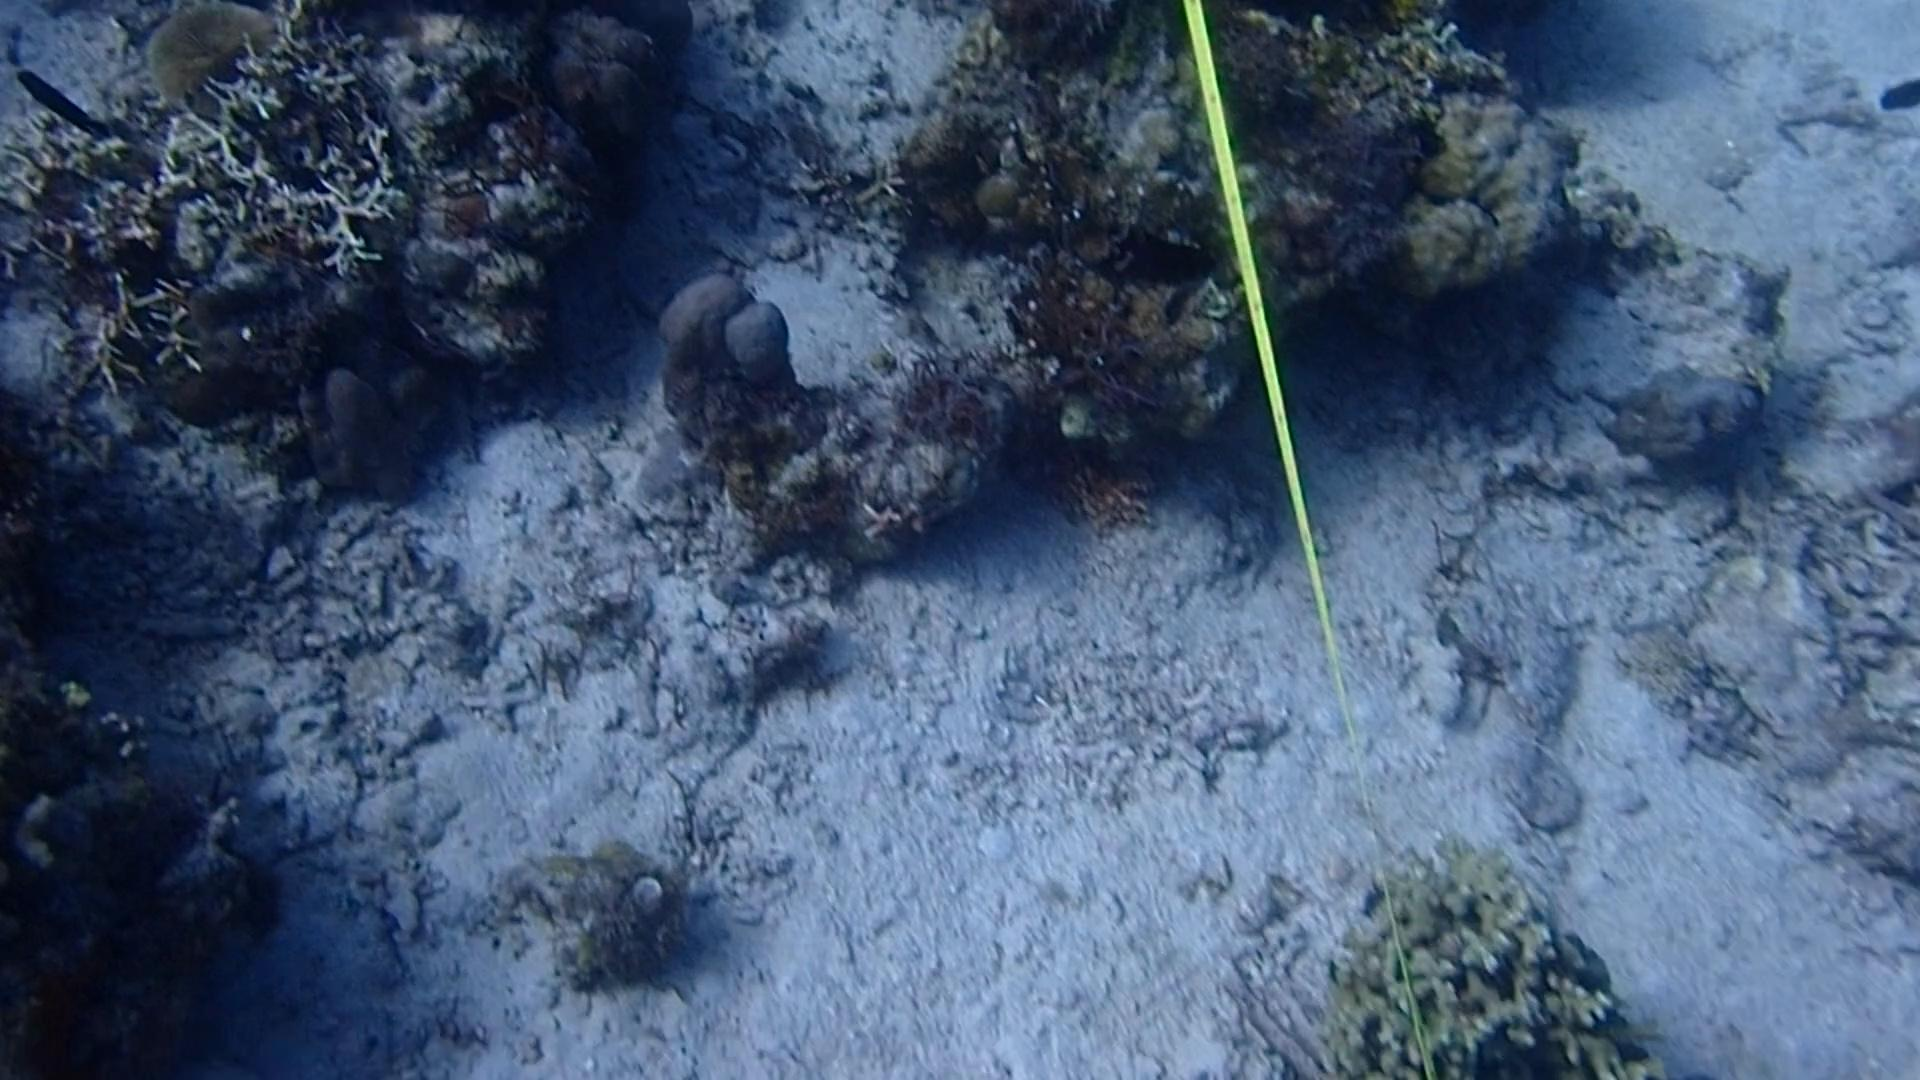Dark Fish: (11, 63, 123, 149), (1096, 228, 1222, 303)
